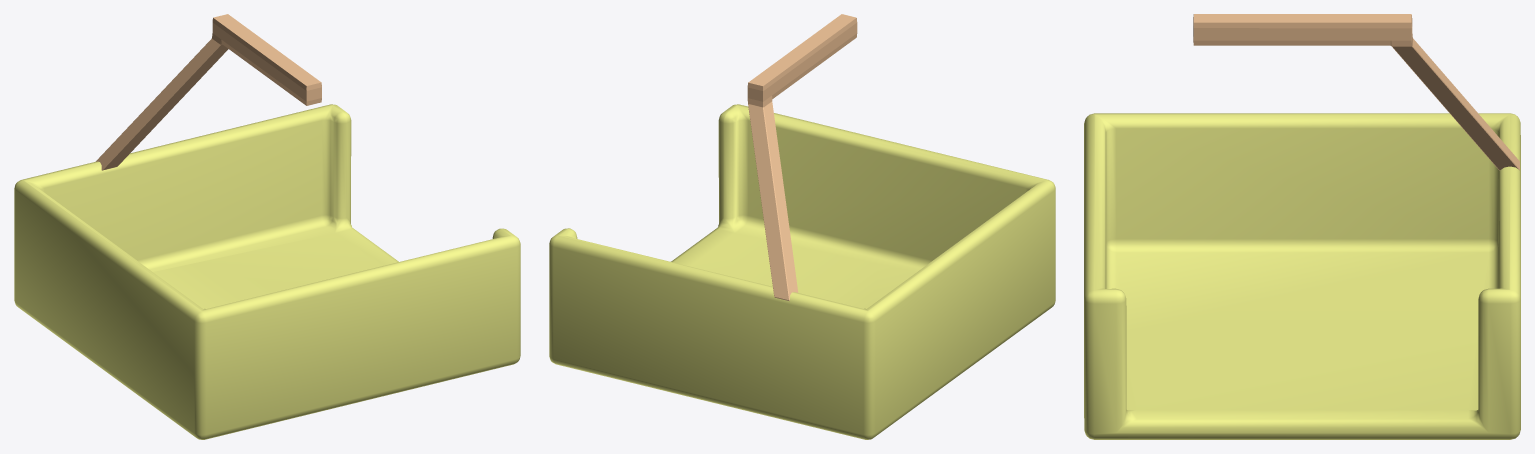
Rendered from basket_2-1.fbx.
3 views of the same model, side by side, from view 1: azimuth 30°, elevation 25°; view 2: azimuth 150°, elevation 25°; view 3: azimuth 270°, elevation 25° (orthographic). The views are drawn at different scales.
Visible parts, largest first — view 1: cube_001, cube; view 2: cube_001, cube; view 3: cube_001, cube.
Boxes of the visible parts, left/top/right/bottom form: cube_001: left=14, top=104, right=520, bottom=439; cube: left=96, top=14, right=321, bottom=170; cube_001: left=549, top=104, right=1055, bottom=439; cube: left=747, top=14, right=857, bottom=300; cube_001: left=1084, top=113, right=1520, bottom=439; cube: left=1193, top=14, right=1519, bottom=170.
Size of the model in its own units: 400 by 336 by 400.
